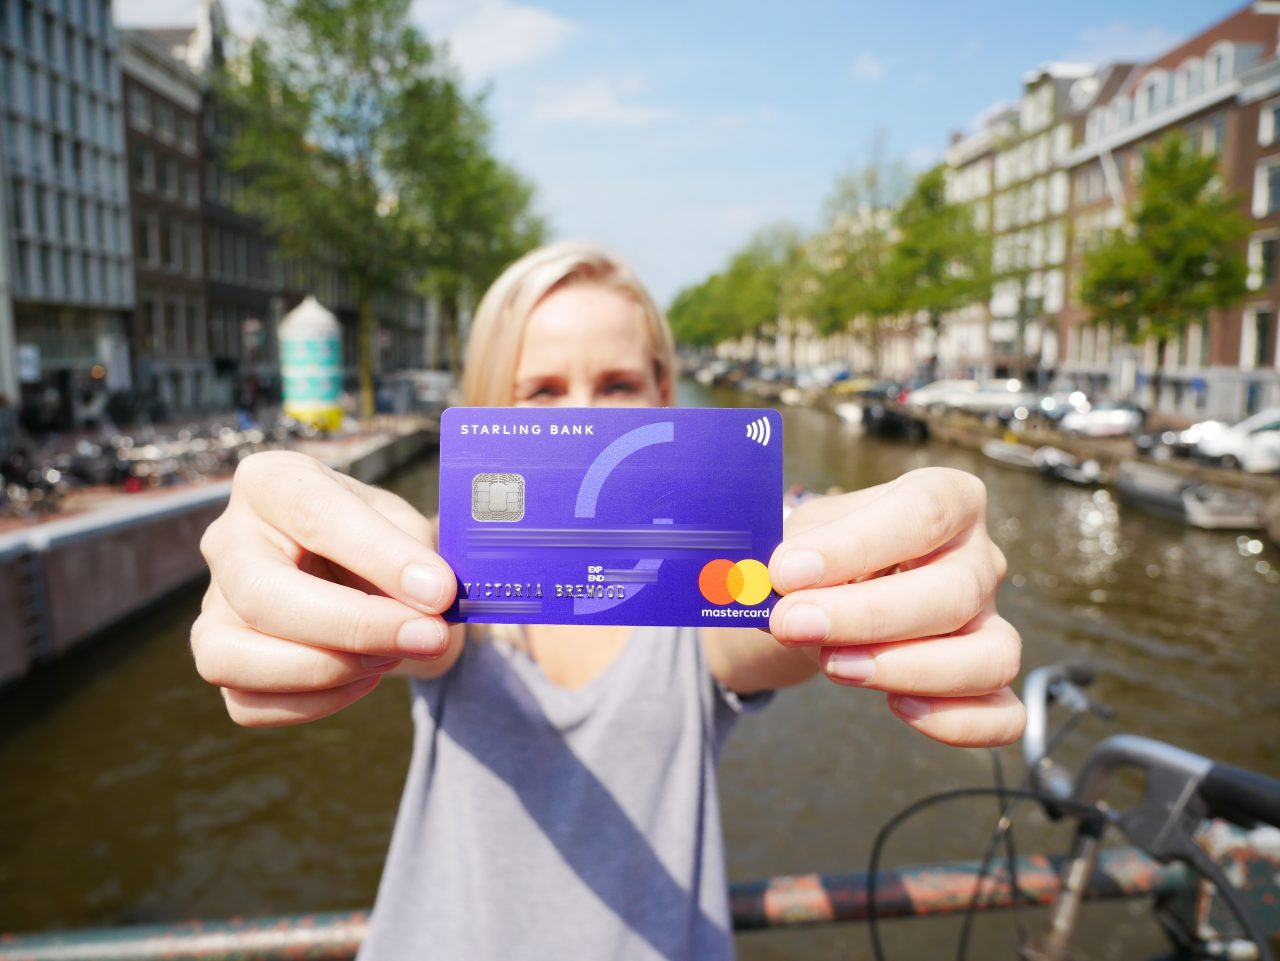tarjeta: (434, 404, 784, 629)
